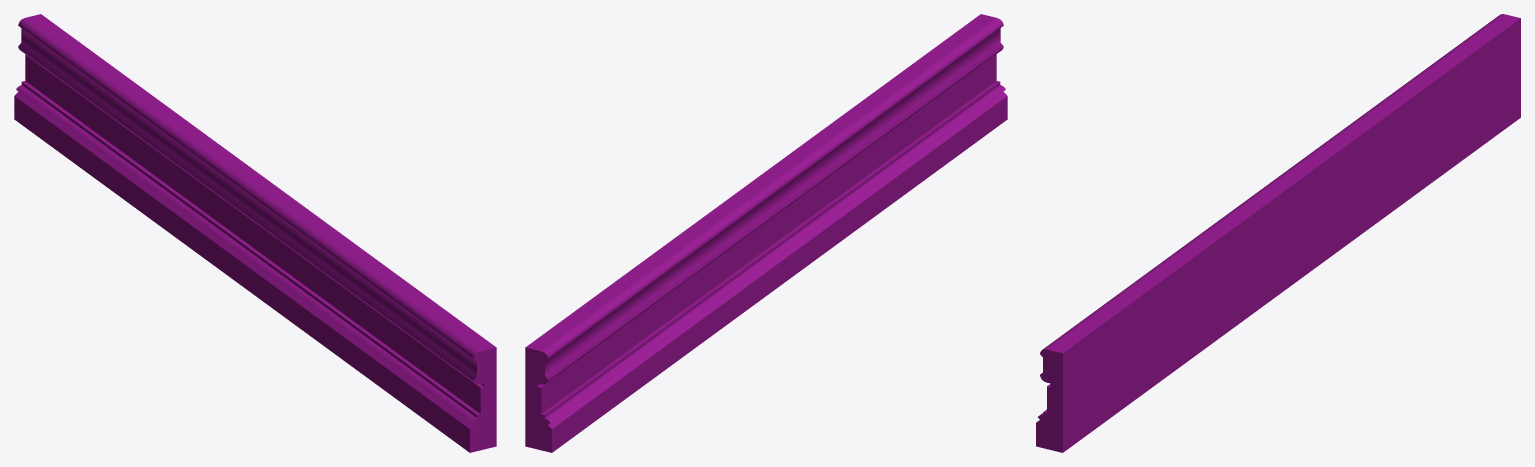
Rendered from skirtingboard.FBX.
The picture shows the model from 3 angles, left to right: view 1: azimuth 30°, elevation 25°; view 2: azimuth 150°, elevation 25°; view 3: azimuth 330°, elevation 25°; orthographic projection.
Parts seen in each view (by area): view 1: Box006; view 2: Box006; view 3: Box006.
Part boxes in pixels (bbox=[...]): Box006: bbox=[14, 14, 496, 452]; Box006: bbox=[525, 14, 1007, 452]; Box006: bbox=[1036, 14, 1520, 452].
Bounding box in the file's own units: 1.33 × 4.72 × 39.37.
